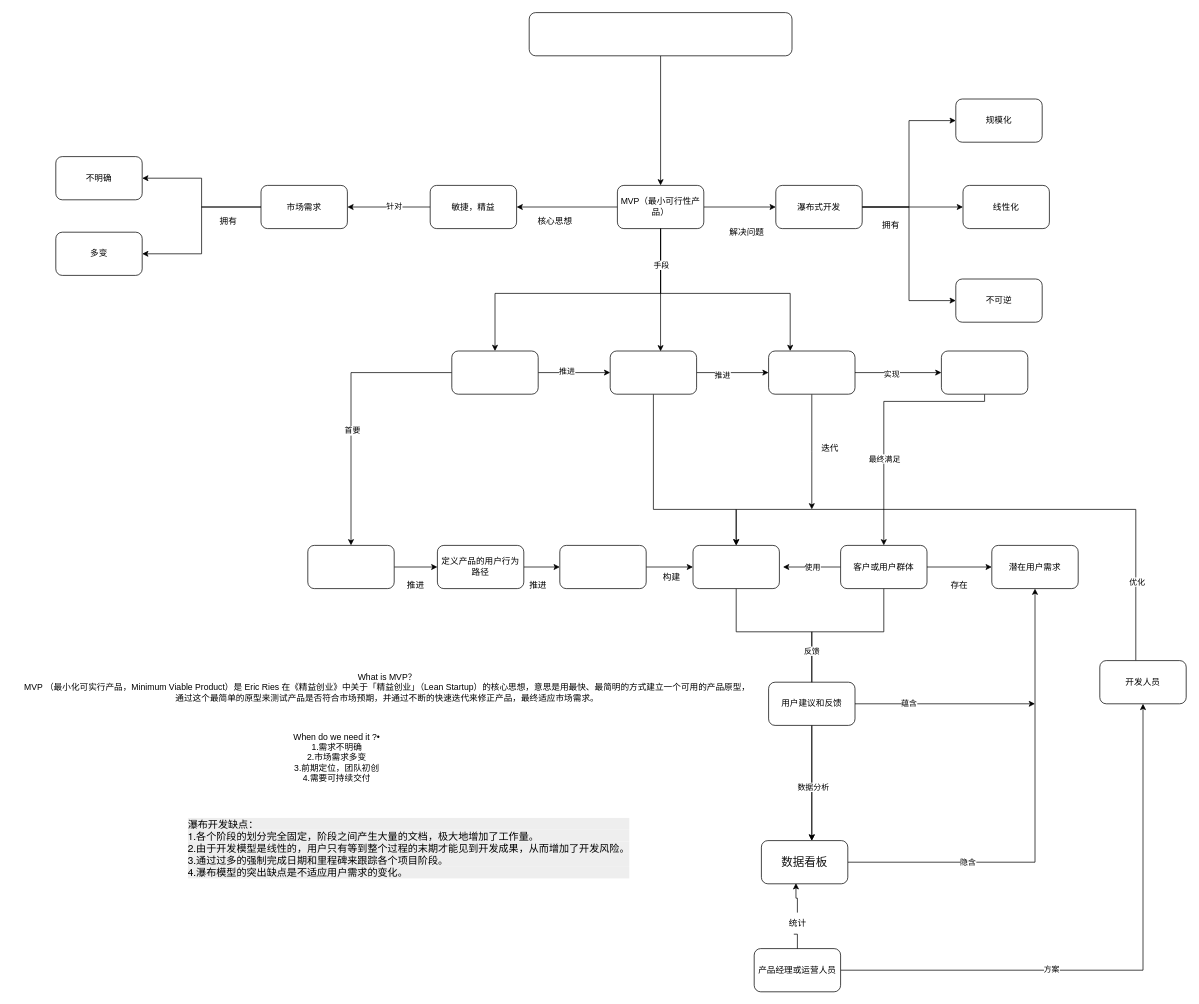
Some shapes in this 1199 by 1004 pixel diagram are drawn without their labels. The box of each missing label's shape, as (x1, y1, x2, y2) in pixels:
Focus Question ：What is the MVP: (528, 12, 792, 56)
产品价值: (941, 350, 1028, 394)
产品原型: (692, 545, 779, 589)
功能优先级排序: (559, 545, 646, 589)
明确产品目标: (307, 545, 394, 589)
构建（build）: (451, 350, 538, 394)
测量（measure）: (609, 350, 697, 394)
迭代（learn）: (768, 350, 855, 394)
